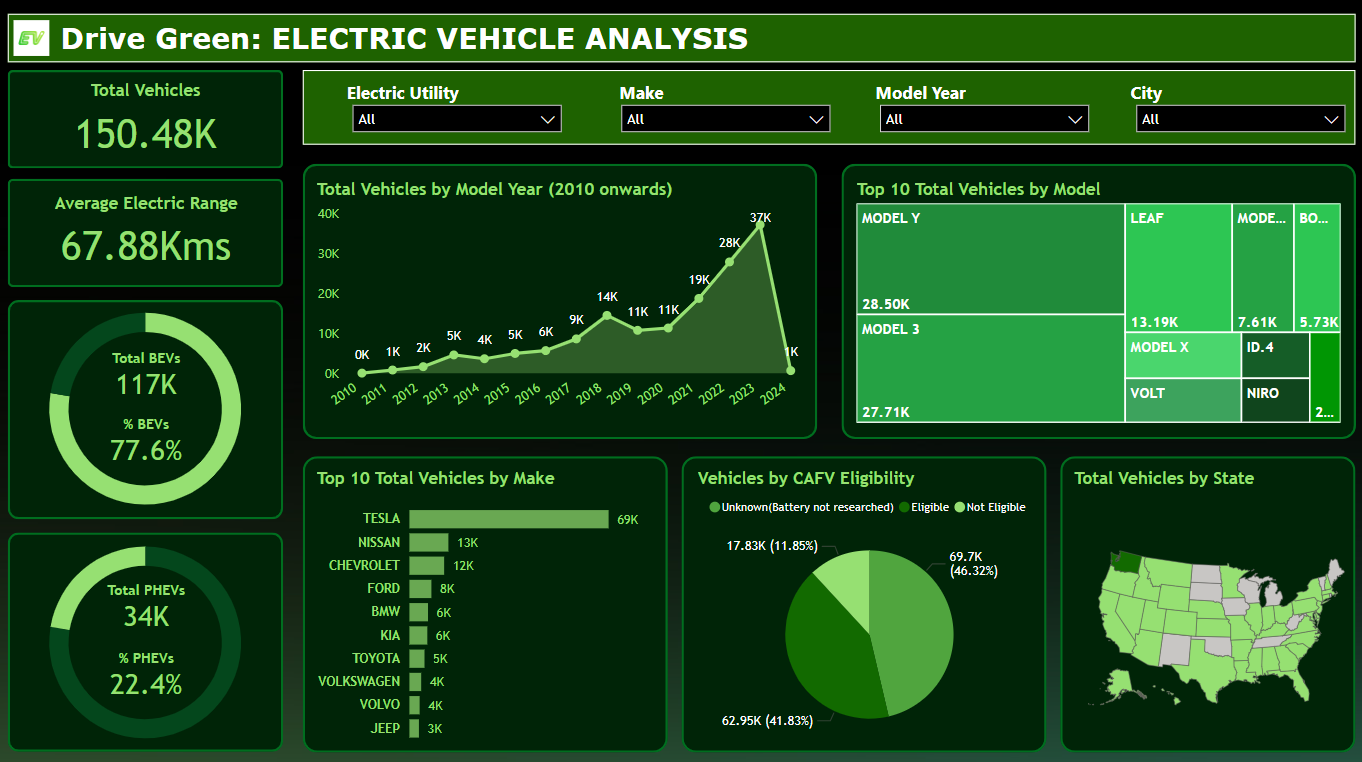

Layout of this report page (visuals, bound fields, positions):
{"tool":"powerbi","page":{"name":"Page 1","canvas":[1280,720],"ordinal":0},"visuals":[{"type":"shape","box":[285,65.4,986.9,70.1],"z":0},{"type":"shape","box":[995,427.4,276.8,278],"z":1000},{"type":"shape","box":[640,427.4,342.2,278],"z":2000},{"type":"shape","box":[285,427.4,342.2,278],"z":3000},{"type":"shape","box":[789.5,153,482.3,258.1],"z":4000},{"type":"shape","box":[285,153,482.3,258.1],"z":5000},{"type":"shape","box":[8.2,167,258.1,101.6],"z":6000},{"type":"shape","box":[8.2,281.5,258.1,205.5],"z":7000},{"type":"shape","box":[8.2,65.4,258.1,92.3],"z":8000},{"type":"shape","box":[8.2,12.8,1263.6,45.5],"z":9000},{"type":"textbox","box":[52.5,14.4,668.8,43.2],"z":10000},{"type":"image","box":[0,14,60.7,43.2],"z":11000},{"type":"card","title":"Total Vehicles","fields":{"Values":["CountNonNull(Electric_Vehicle_Population_Data.DOL Vehicle ID)"]},"box":[53.7,70.1,167,82.9],"z":12000},{"type":"card","title":"Average Electric Range","fields":{"Values":["Electric_Vehicle_Population_Data.Avg Range KPI"]},"box":[40.9,176.4,193.9,82.9],"z":13000},{"type":"donutChart","fields":{"Category":["Electric_Vehicle_Population_Data.Electric Vehicle Type Acronym"],"Y":["CountNonNull(Electric_Vehicle_Population_Data.Electric Vehicle Type Acronym)"]},"box":[8.2,266.3,258.1,234.7],"z":14000},{"type":"card","title":"Total BEVs","fields":{"Values":["Electric_Vehicle_Population_Data.BEV KPI"]},"box":[92.3,322.3,91.1,53.7],"z":15000},{"type":"shape","box":[8.2,499.3,258.1,205.5],"z":16000},{"type":"donutChart","fields":{"Category":["Electric_Vehicle_Population_Data.Electric Vehicle Type Acronym"],"Y":["CountNonNull(Electric_Vehicle_Population_Data.Electric Vehicle Type Acronym)"]},"box":[8.2,485.3,258.1,234.7],"z":17000},{"type":"card","title":"% BEVs","fields":{"Values":["Electric_Vehicle_Population_Data.BEV %age"]},"box":[82.9,384.2,109.8,53.7],"z":18000},{"type":"card","title":"Total PHEVs","fields":{"Values":["Electric_Vehicle_Population_Data.PHEV KPI"]},"box":[92.3,540.1,91.1,53.7],"z":19000},{"type":"card","title":"% PHEVs","fields":{"Values":["Electric_Vehicle_Population_Data.PHEV %age"]},"box":[82.9,603.2,109.8,53.7],"z":20000},{"type":"areaChart","title":"Total Vehicles by Model Year (2010 onwards)","fields":{"Y":["CountNonNull(Electric_Vehicle_Population_Data.DOL Vehicle ID)"],"Category":["Electric_Vehicle_Population_Data.Model Year"]},"box":[293.1,167,466,233.6],"z":21000},{"type":"shapeMap","title":"Total Vehicles by State","fields":{"Category":["Electric_Vehicle_Population_Data.State"],"Value":["CountNonNull(Electric_Vehicle_Population_Data.DOL Vehicle ID)"]},"box":[1003.2,438,276.8,282.6],"z":22000},{"type":"barChart","title":"Top 10 Total Vehicles by Make","fields":{"Category":["Electric_Vehicle_Population_Data.Make"],"Y":["Count(Electric_Vehicle_Population_Data.DOL Vehicle ID)"]},"box":[293.1,438,325.8,267.4],"z":23000},{"type":"pieChart","title":"Vehicles by CAFV Eligibility","fields":{"Category":["Electric_Vehicle_Population_Data.CAFV Check"],"Y":["CountNonNull(Electric_Vehicle_Population_Data.CAFV Check)"]},"box":[650.5,438,331.7,267.4],"z":24000},{"type":"treemap","title":"Top 10 Total Vehicles by Model","fields":{"Values":["Count(Electric_Vehicle_Population_Data.DOL Vehicle ID)"],"Group":["Electric_Vehicle_Population_Data.Model"]},"box":[798.8,167,463.6,233.6],"z":25000},{"type":"slicer","fields":{"Values":["Electric_Vehicle_Population_Data.Make"]},"box":[573.4,87.6,216.1,47.9],"z":26000},{"type":"slicer","fields":{"Values":["Electric_Vehicle_Population_Data.Model Year"]},"box":[815.2,87.6,216.1,47.9],"z":27000},{"type":"textbox","box":[576.9,70.1,63.1,35],"z":28000},{"type":"textbox","box":[816.4,70.1,118,35],"z":29000},{"type":"slicer","fields":{"Values":["Electric_Vehicle_Population_Data.City"]},"box":[1055.8,87.6,216.1,47.9],"z":30000},{"type":"textbox","box":[1055.8,70.1,63.1,35],"z":31000},{"type":"slicer","fields":{"Values":["Electric_Vehicle_Population_Data.Electric Utility"]},"box":[321.2,87.6,216.1,47.9],"z":32000},{"type":"textbox","box":[321.3,70.2,123.3,35.1],"z":33000}]}

Visuals, with their boxes in screenshot pixels (x1, y1, x2, y2), scaled from the page's 1280x720 canvas onto the 1362x762 screenshot:
shape: {"left": 303, "top": 69, "right": 1353, "bottom": 143}
shape: {"left": 1059, "top": 452, "right": 1353, "bottom": 747}
shape: {"left": 681, "top": 452, "right": 1045, "bottom": 747}
shape: {"left": 303, "top": 452, "right": 667, "bottom": 747}
shape: {"left": 840, "top": 162, "right": 1353, "bottom": 435}
shape: {"left": 303, "top": 162, "right": 816, "bottom": 435}
shape: {"left": 9, "top": 177, "right": 283, "bottom": 284}
shape: {"left": 9, "top": 298, "right": 283, "bottom": 515}
shape: {"left": 9, "top": 69, "right": 283, "bottom": 167}
shape: {"left": 9, "top": 14, "right": 1353, "bottom": 62}
textbox: {"left": 56, "top": 15, "right": 768, "bottom": 61}
image: {"left": 0, "top": 15, "right": 65, "bottom": 61}
"Total Vehicles" card: {"left": 57, "top": 74, "right": 235, "bottom": 162}
"Average Electric Range" card: {"left": 44, "top": 187, "right": 250, "bottom": 274}
donutChart - Electric_Vehicle_Population_Data.Electric Vehicle Type Acronym x CountNonNull(Electric_Vehicle_Population_Data.Electric Vehicle Type Acronym): {"left": 9, "top": 282, "right": 283, "bottom": 530}
"Total BEVs" card: {"left": 98, "top": 341, "right": 195, "bottom": 398}
shape: {"left": 9, "top": 528, "right": 283, "bottom": 746}
donutChart - Electric_Vehicle_Population_Data.Electric Vehicle Type Acronym x CountNonNull(Electric_Vehicle_Population_Data.Electric Vehicle Type Acronym): {"left": 9, "top": 514, "right": 283, "bottom": 761}
"% BEVs" card: {"left": 88, "top": 407, "right": 205, "bottom": 463}
"Total PHEVs" card: {"left": 98, "top": 572, "right": 195, "bottom": 628}
"% PHEVs" card: {"left": 88, "top": 638, "right": 205, "bottom": 695}
"Total Vehicles by Model Year (2010 onwards)" areaChart: {"left": 312, "top": 177, "right": 808, "bottom": 424}
"Total Vehicles by State" shapeMap: {"left": 1067, "top": 464, "right": 1361, "bottom": 761}
"Top 10 Total Vehicles by Make" barChart: {"left": 312, "top": 464, "right": 659, "bottom": 747}
"Vehicles by CAFV Eligibility" pieChart: {"left": 692, "top": 464, "right": 1045, "bottom": 747}
"Top 10 Total Vehicles by Model" treemap: {"left": 850, "top": 177, "right": 1343, "bottom": 424}
slicer - Electric_Vehicle_Population_Data.Make: {"left": 610, "top": 93, "right": 840, "bottom": 143}
slicer - Electric_Vehicle_Population_Data.Model Year: {"left": 867, "top": 93, "right": 1097, "bottom": 143}
textbox: {"left": 614, "top": 74, "right": 681, "bottom": 111}
textbox: {"left": 869, "top": 74, "right": 994, "bottom": 111}
slicer - Electric_Vehicle_Population_Data.City: {"left": 1123, "top": 93, "right": 1353, "bottom": 143}
textbox: {"left": 1123, "top": 74, "right": 1191, "bottom": 111}
slicer - Electric_Vehicle_Population_Data.Electric Utility: {"left": 342, "top": 93, "right": 572, "bottom": 143}
textbox: {"left": 342, "top": 74, "right": 473, "bottom": 111}
